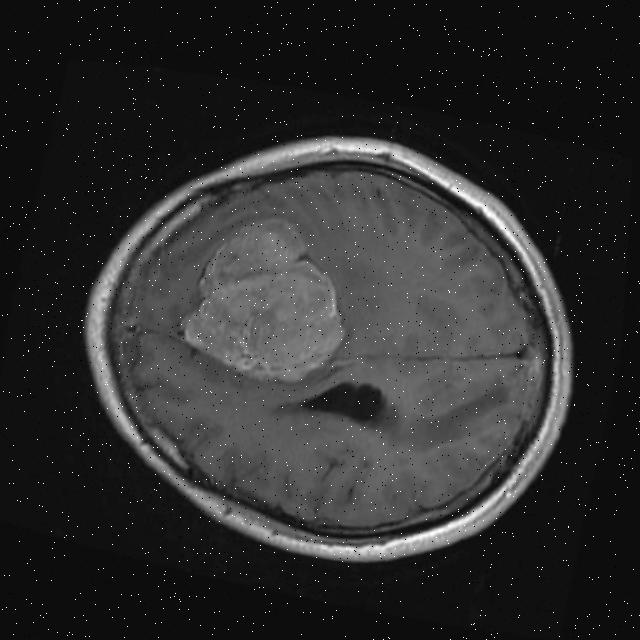Meningioma: (174, 203, 366, 398)
